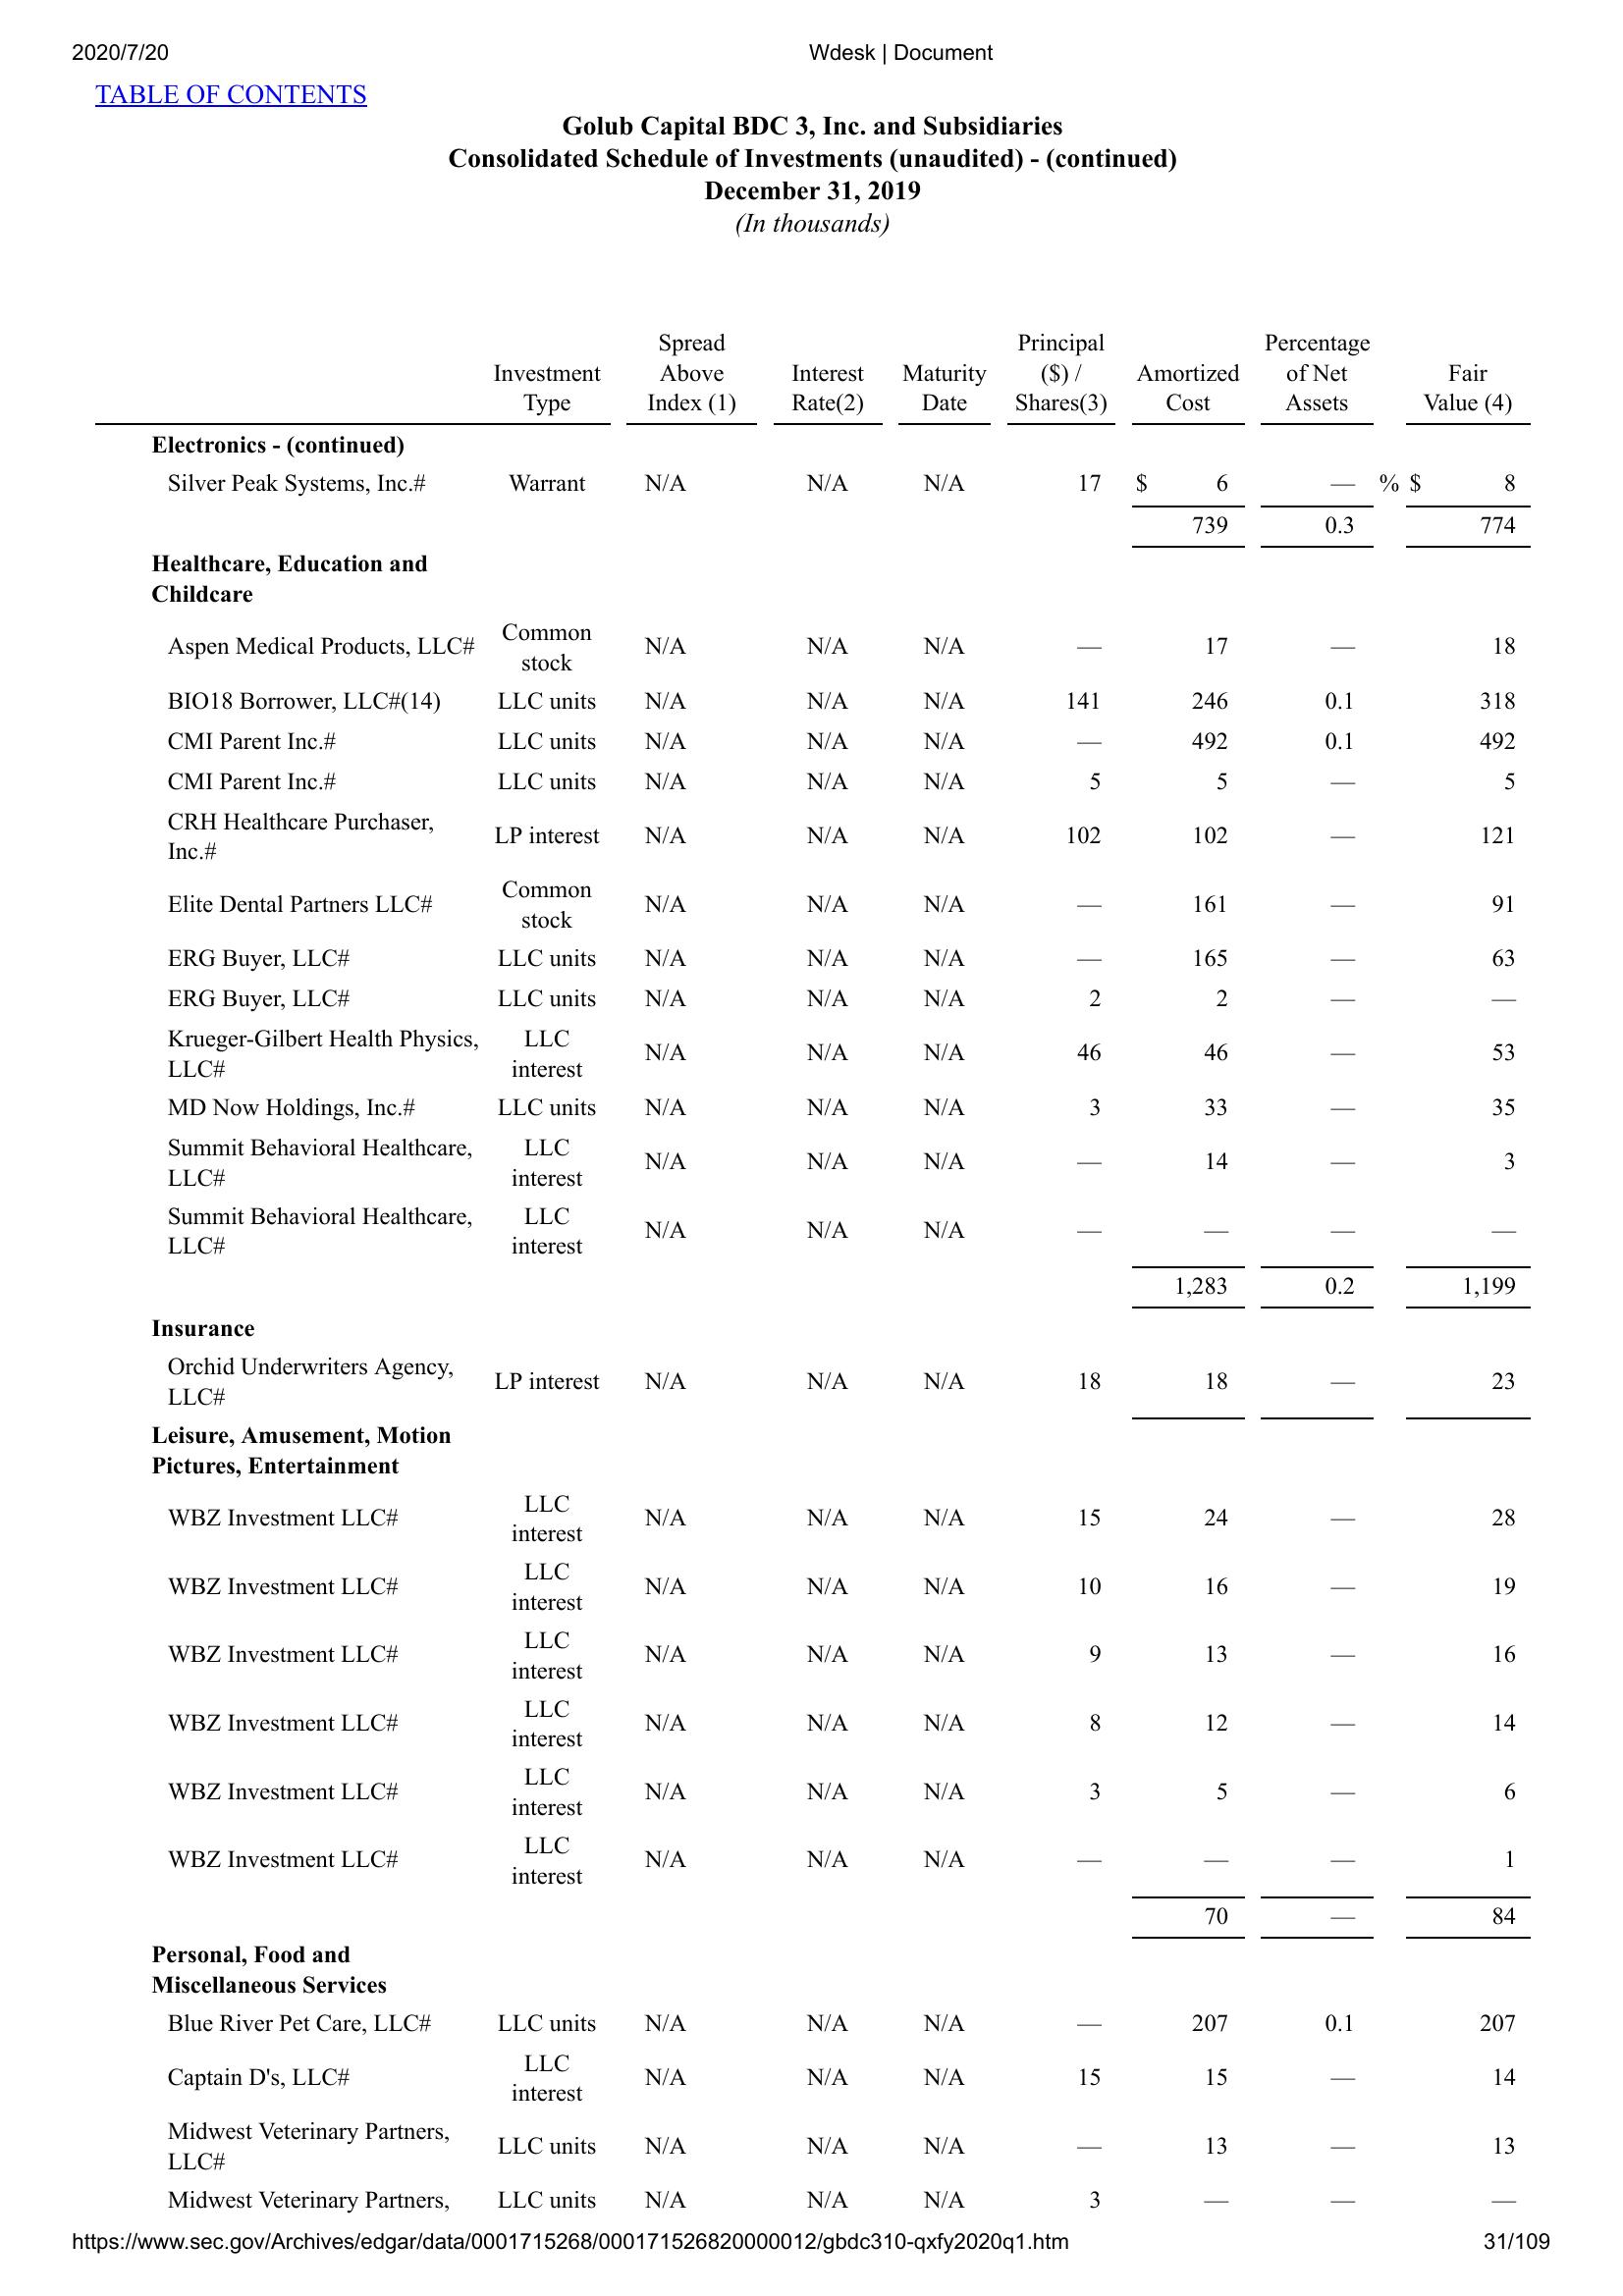table: (88, 318, 1528, 2219)
